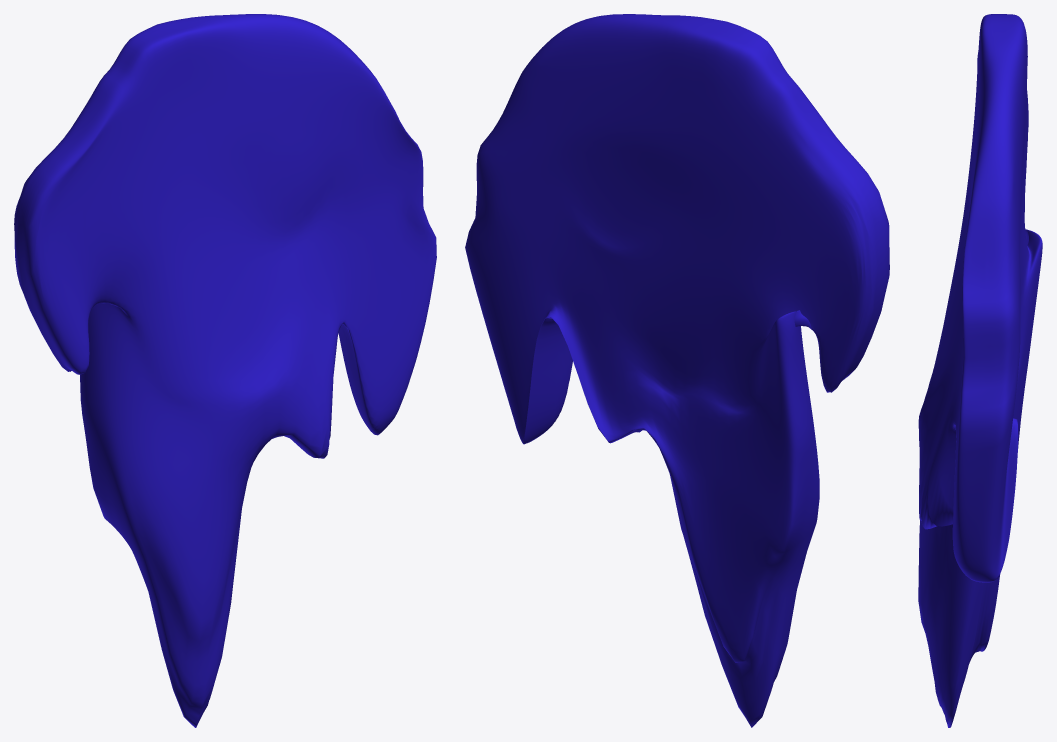
The model's file is Stain_Purple.fbx.
The picture shows the model from 3 angles, left to right: view 1: azimuth 30°, elevation 25°; view 2: azimuth 150°, elevation 25°; view 3: azimuth 270°, elevation 25°; orthographic projection. The views are drawn at different scales.
Parts seen in each view (by area): view 1: Box010; view 2: Box010; view 3: Box010.
Boxes of the visible parts, x1,y1,x2,y2 form: Box010: [14, 14, 436, 727]; Box010: [465, 14, 889, 727]; Box010: [918, 14, 1042, 727].
Bounding box in the file's own units: 12.94 × 21.22 × 3.39.
